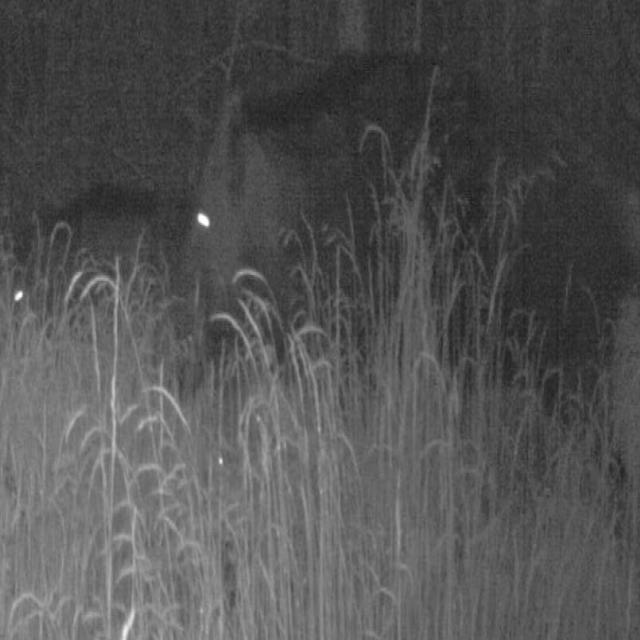pig: (162, 52, 490, 445)
